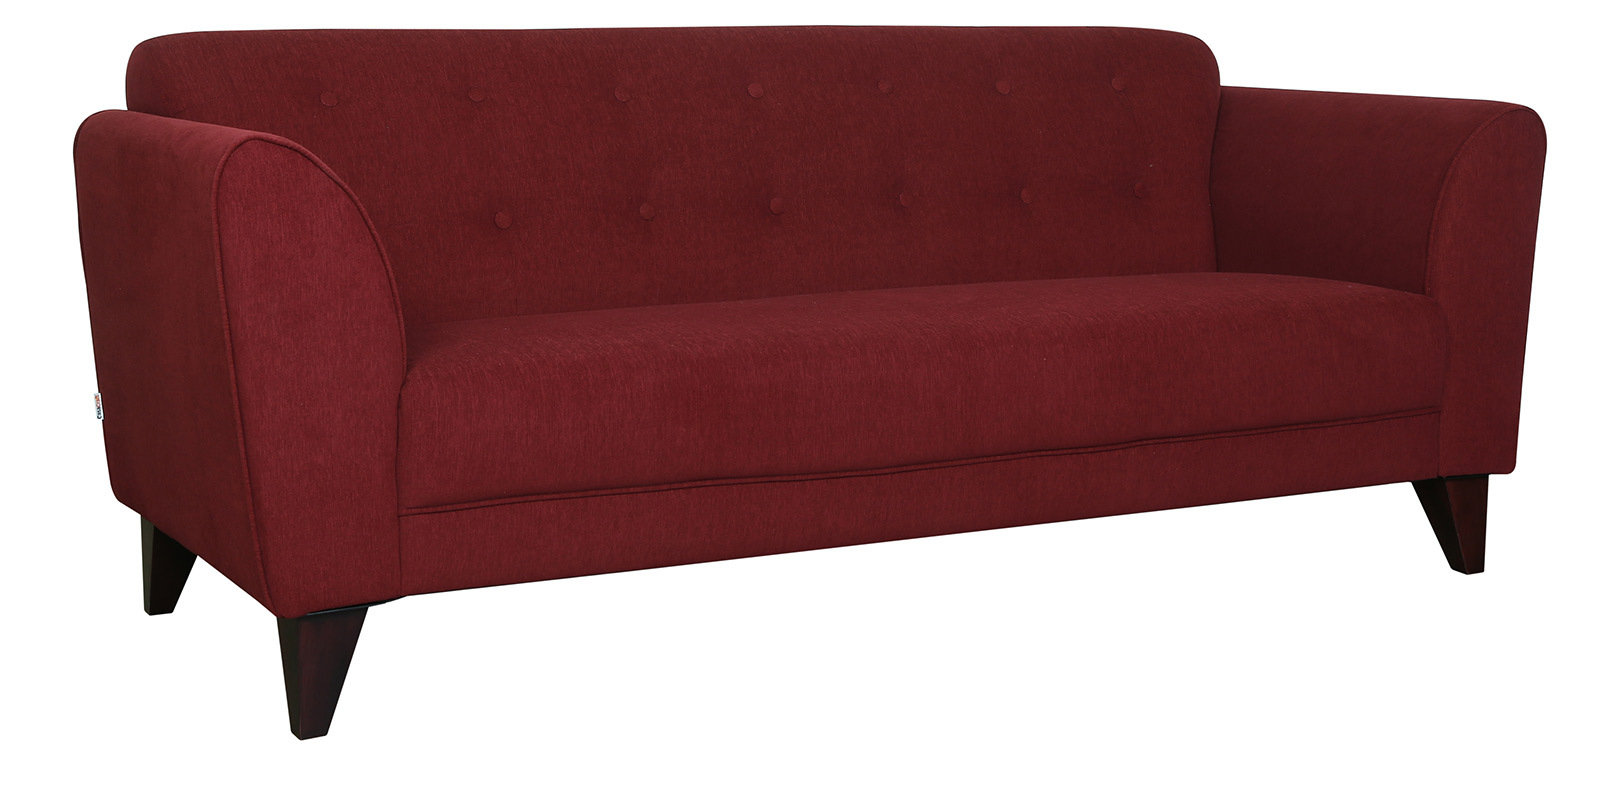Belem Three Seater Sofa in Garnet Red Color by CasaCraft: (52, 24, 1569, 613)
